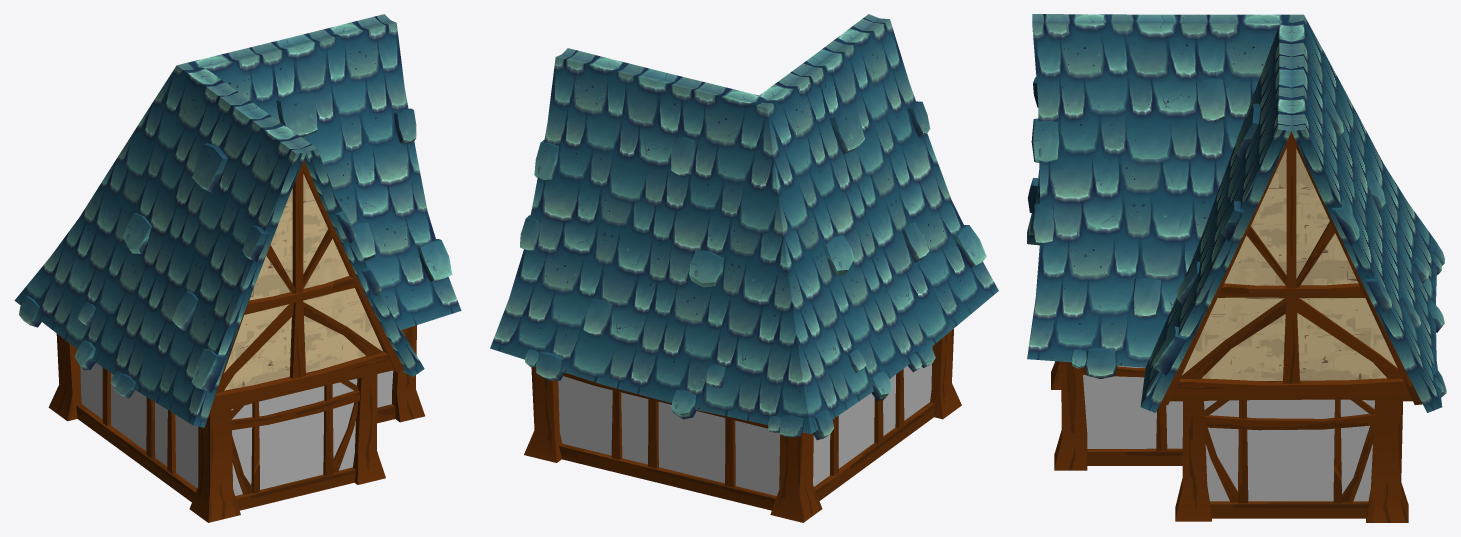
Rendered from SM_BLD_body_v06_01.fbx.
3 renders of one model, left to right at view 1: azimuth 30°, elevation 25°; view 2: azimuth 150°, elevation 25°; view 3: azimuth 270°, elevation 25°, orthographic. The views are drawn at different scales.
Visible parts, largest first — view 1: SM_BLD_body_v06_01; view 2: SM_BLD_body_v06_01; view 3: SM_BLD_body_v06_01.
Boxes of the visible parts, box(x1,y1,x2,y2) form: SM_BLD_body_v06_01: box(14, 14, 461, 522); SM_BLD_body_v06_01: box(490, 14, 998, 522); SM_BLD_body_v06_01: box(1027, 14, 1446, 522).
Size of what is drawn, in the model's own units: 1024 by 1078 by 1021.
